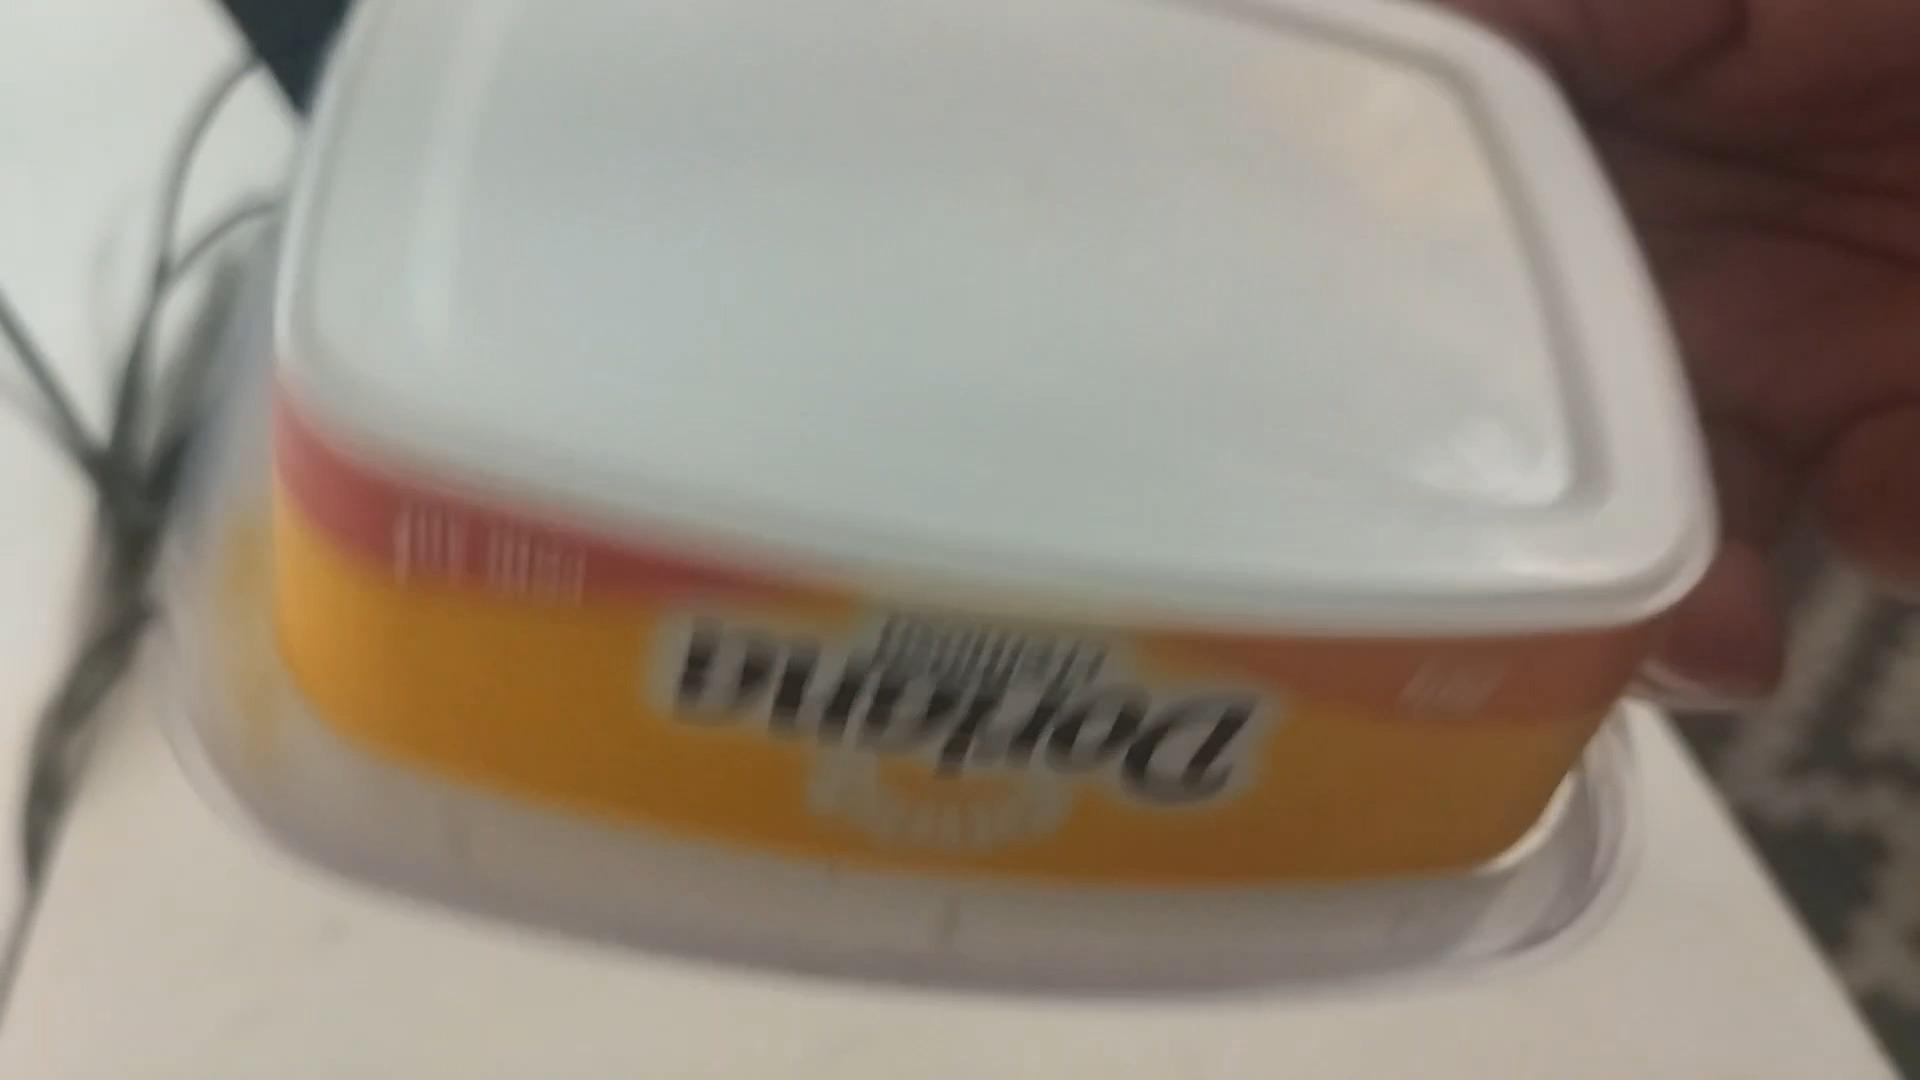butter: (187, 3, 1742, 1027)
